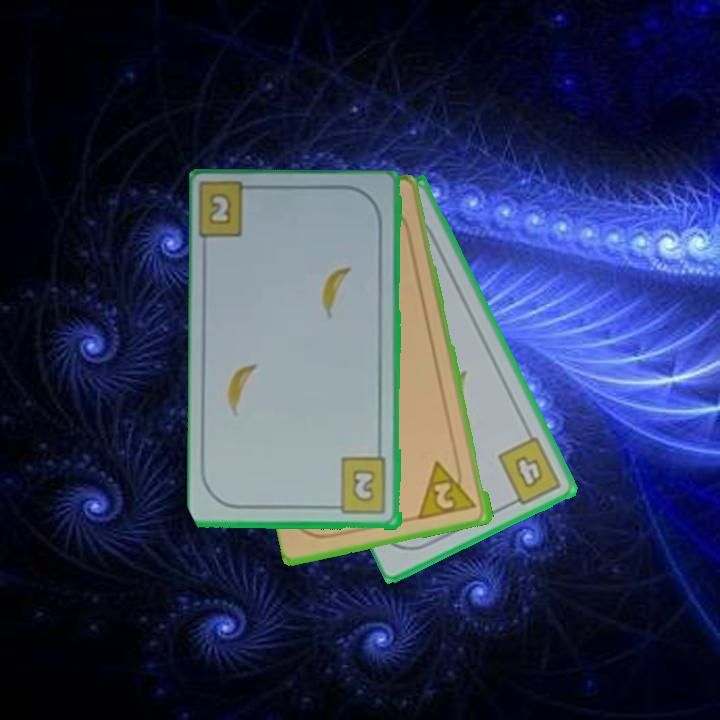2b: (198, 182, 263, 243), (328, 455, 390, 517)
2p: (416, 455, 481, 523)
4b: (494, 433, 565, 510)
